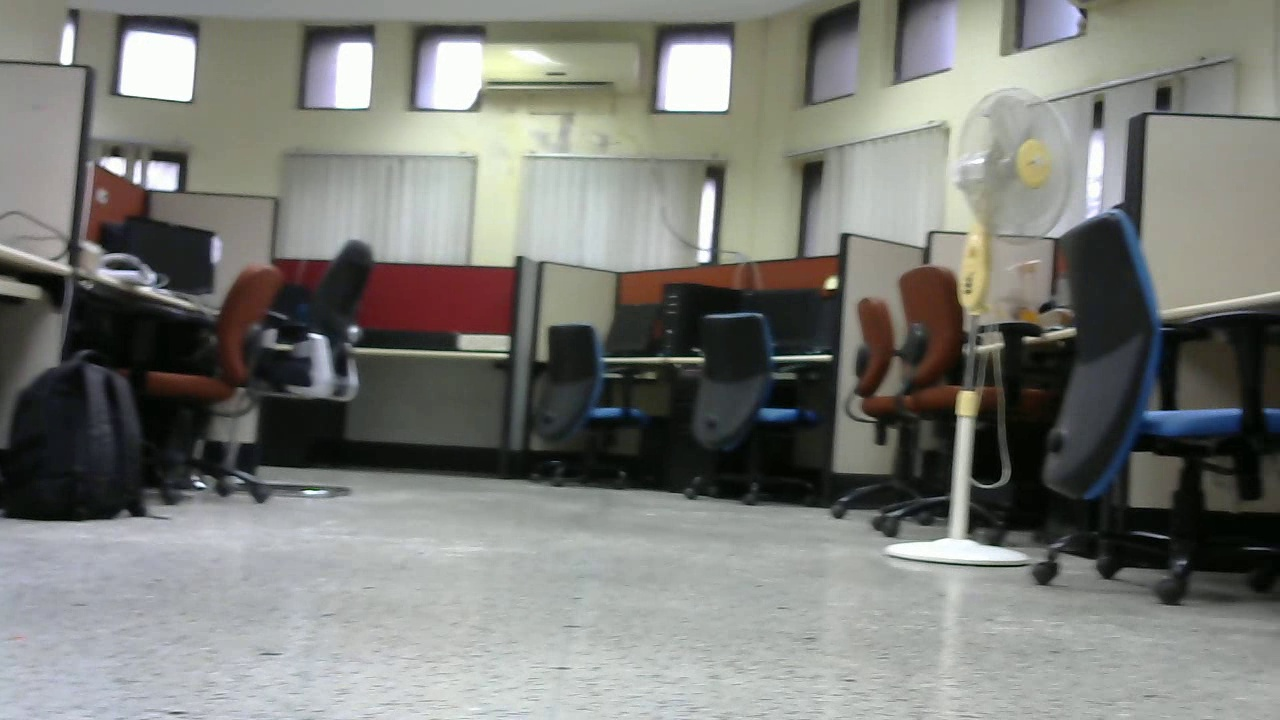chair: (1028, 216, 1279, 612), (842, 263, 1021, 534), (141, 247, 273, 511), (679, 307, 828, 502), (272, 235, 379, 499), (518, 320, 670, 488)
